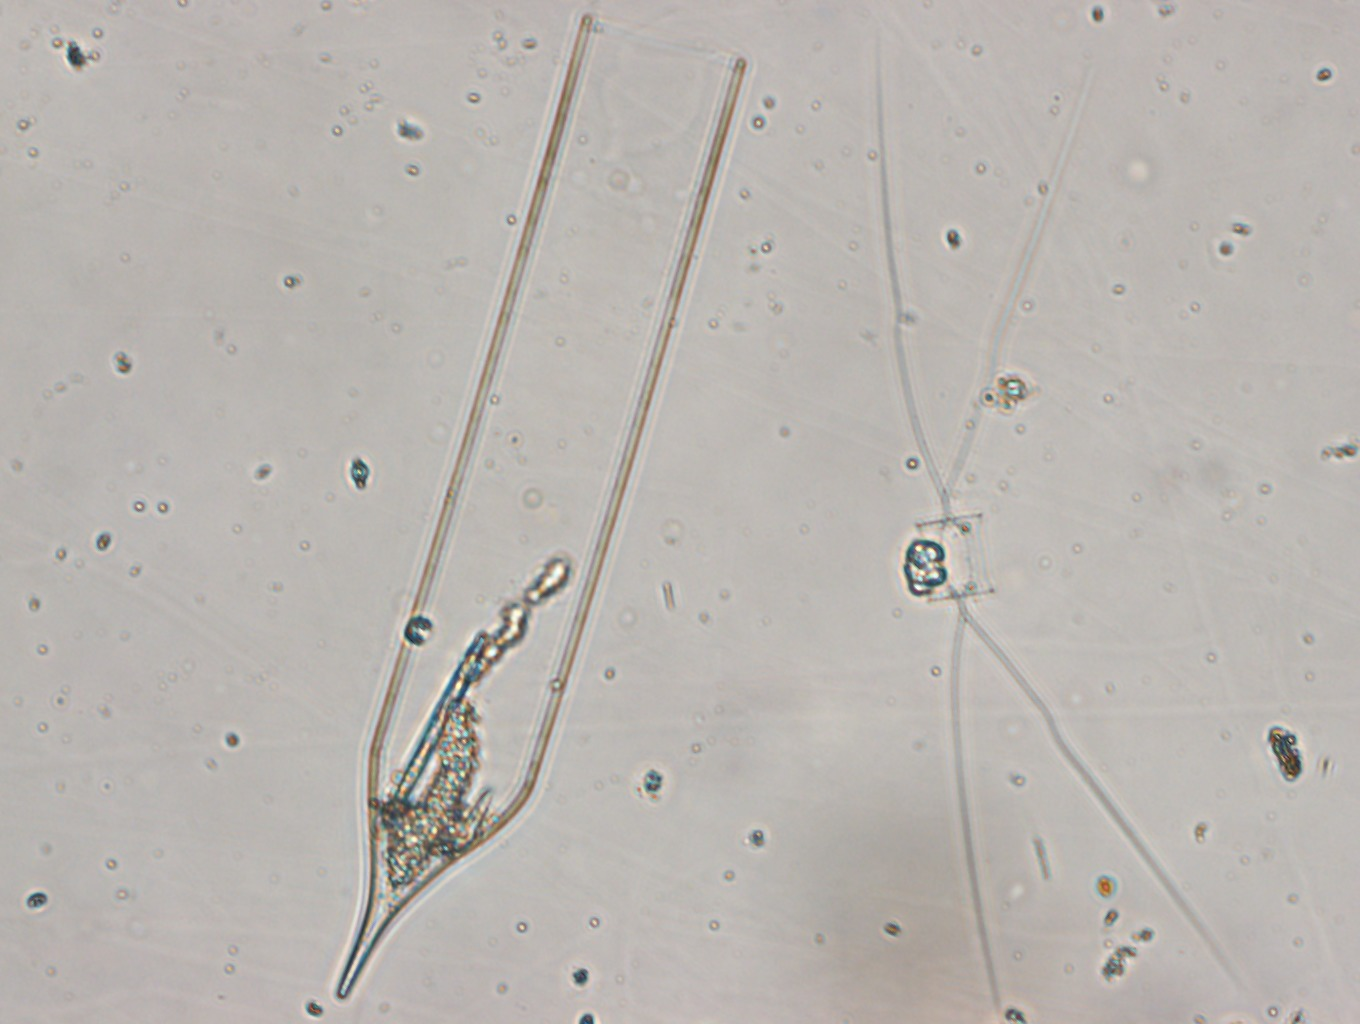chaetoceros: (867, 25, 1241, 1005)
rhizosolenia: (334, 17, 749, 1006)
